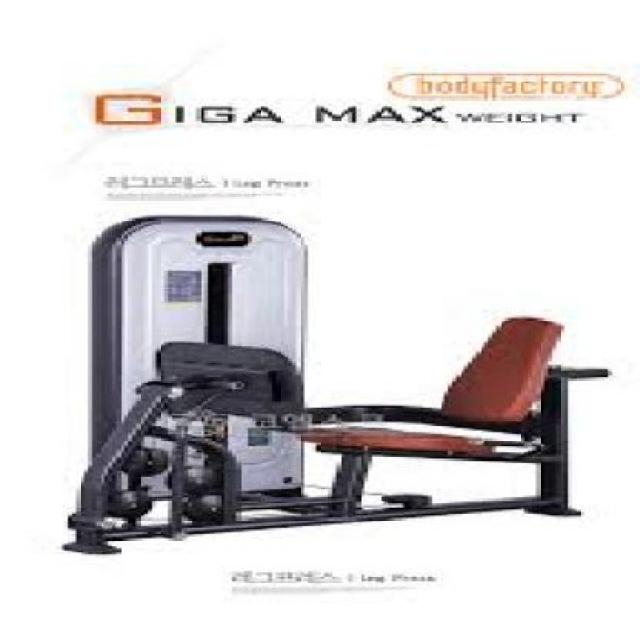leg press: (46, 198, 629, 560)
